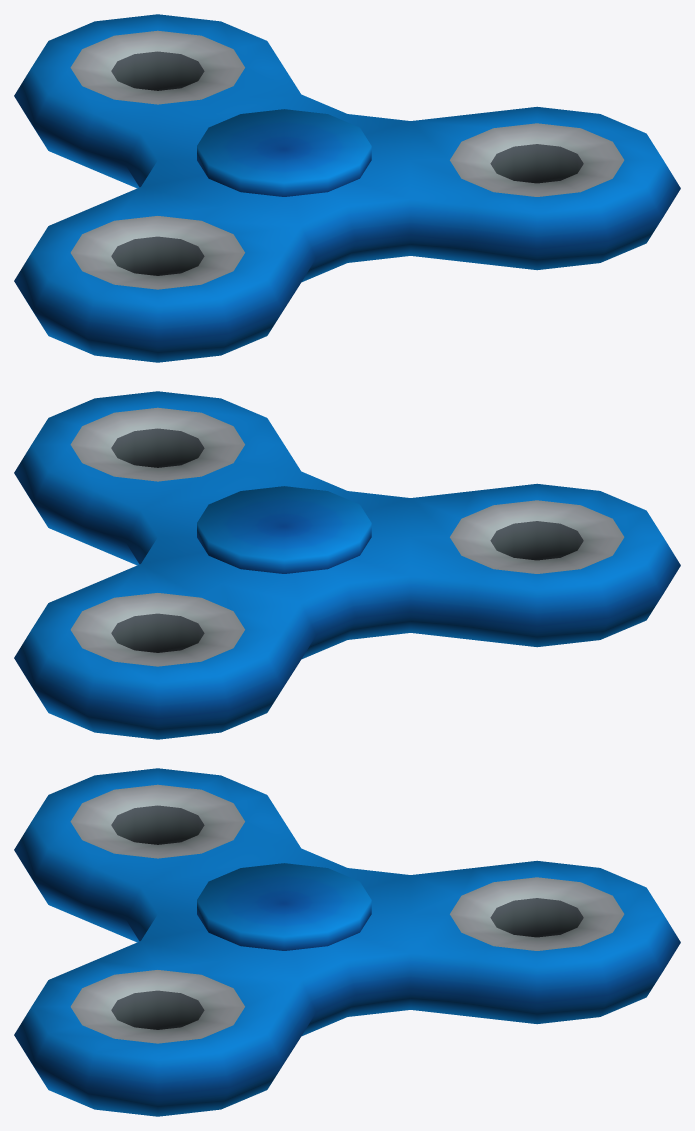
The model's file is spiner.fbx.
3 renders of one model, top to bottom at view 1: azimuth 30°, elevation 25°; view 2: azimuth 150°, elevation 25°; view 3: azimuth 270°, elevation 25°, orthographic.
Parts seen in each view (by area): view 1: spiner; view 2: spiner; view 3: spiner.
Boxes of the visible parts, left/top/right/bottom form: spiner: left=14, top=14, right=680, bottom=362; spiner: left=14, top=391, right=680, bottom=739; spiner: left=14, top=768, right=680, bottom=1116.
Bounding box in the file's own units: 7.93 × 1.02 × 7.29.
